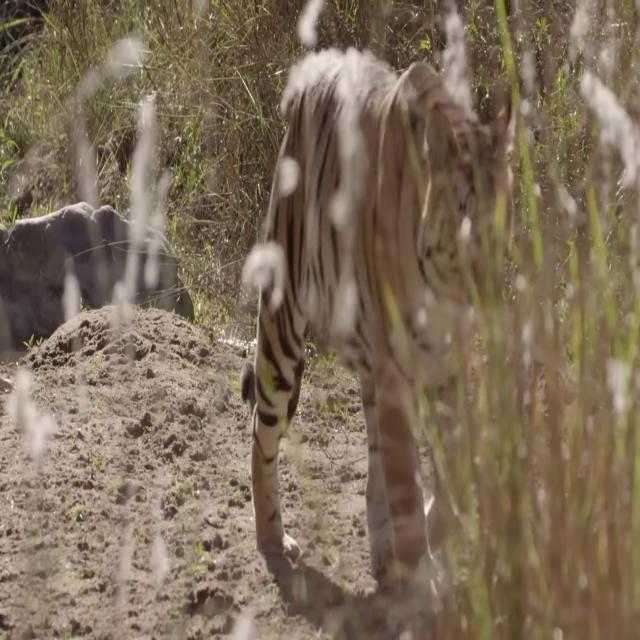tiger: (241, 43, 516, 603)
